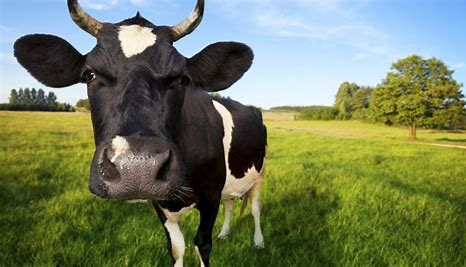waka: (8, 4, 297, 263)
